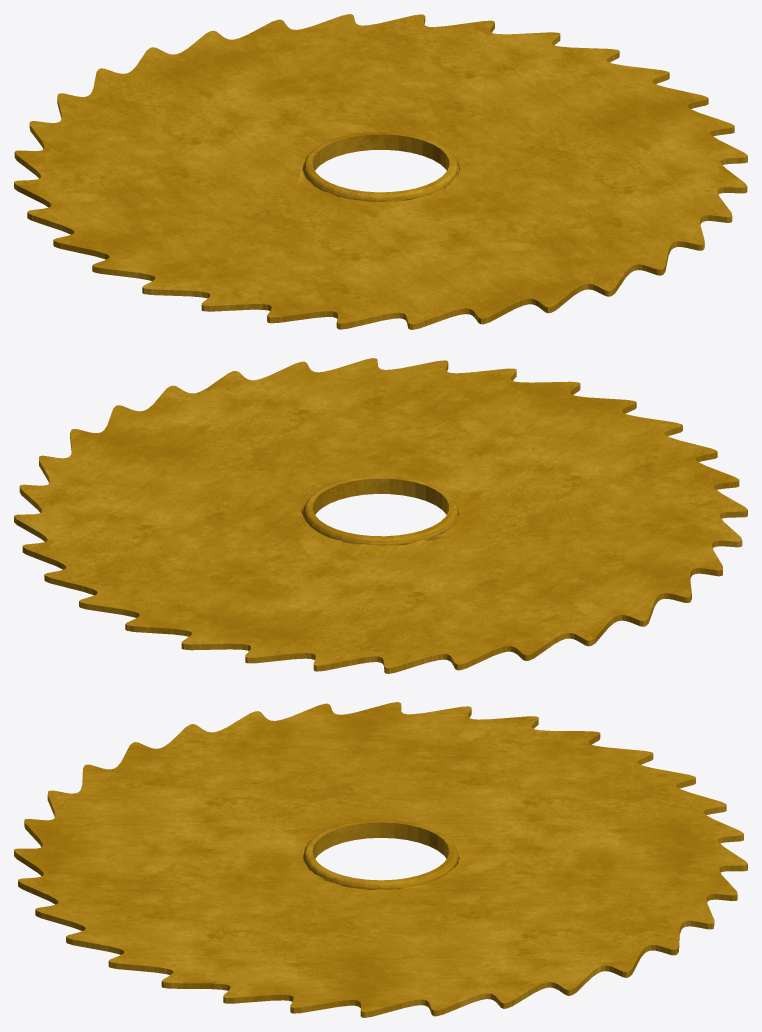
The model's file is chakra.fbx.
3 renders of one model, top to bottom at view 1: azimuth 30°, elevation 25°; view 2: azimuth 150°, elevation 25°; view 3: azimuth 270°, elevation 25°, orthographic.
Visible parts, largest first — view 1: Object_5.001; view 2: Object_5.001; view 3: Object_5.001.
Part boxes in pixels (x1=…): Object_5.001: x1=14, y1=14, x2=747, y2=329; Object_5.001: x1=14, y1=358, x2=747, y2=673; Object_5.001: x1=14, y1=702, x2=747, y2=1017.
Bounding box in the file's own units: 234 × 5.42 × 234.
Materials: 1 (1 with a texture image).
